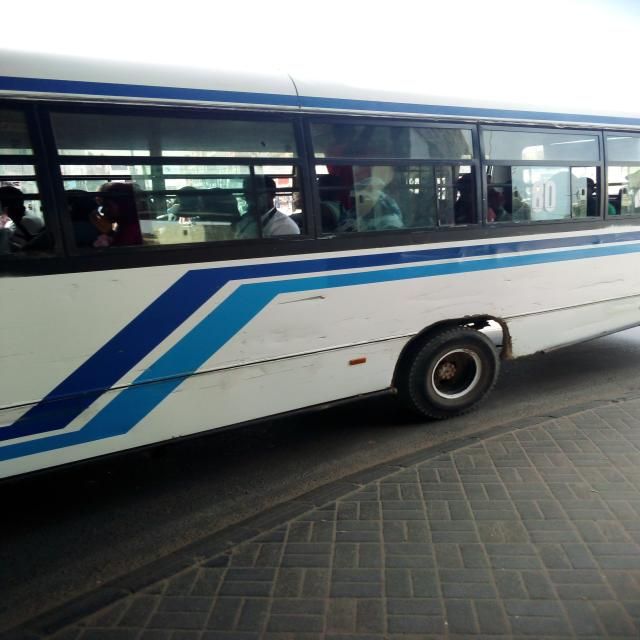bus tata: (1, 52, 639, 480)
